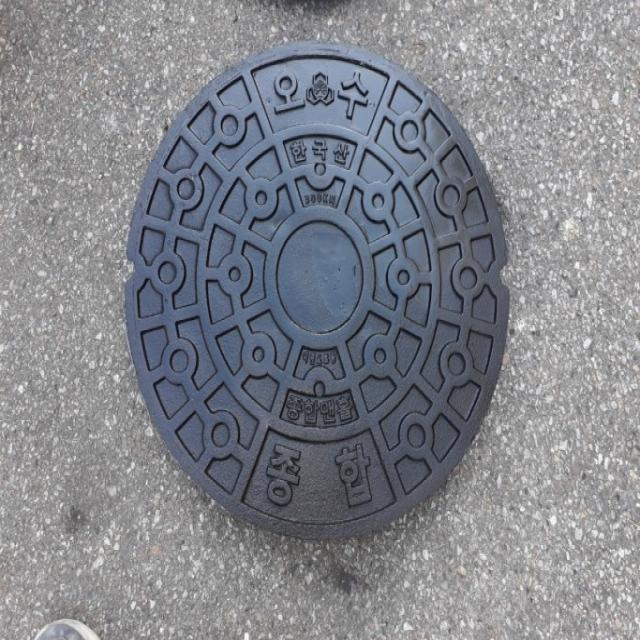manhole: (126, 42, 508, 538)
